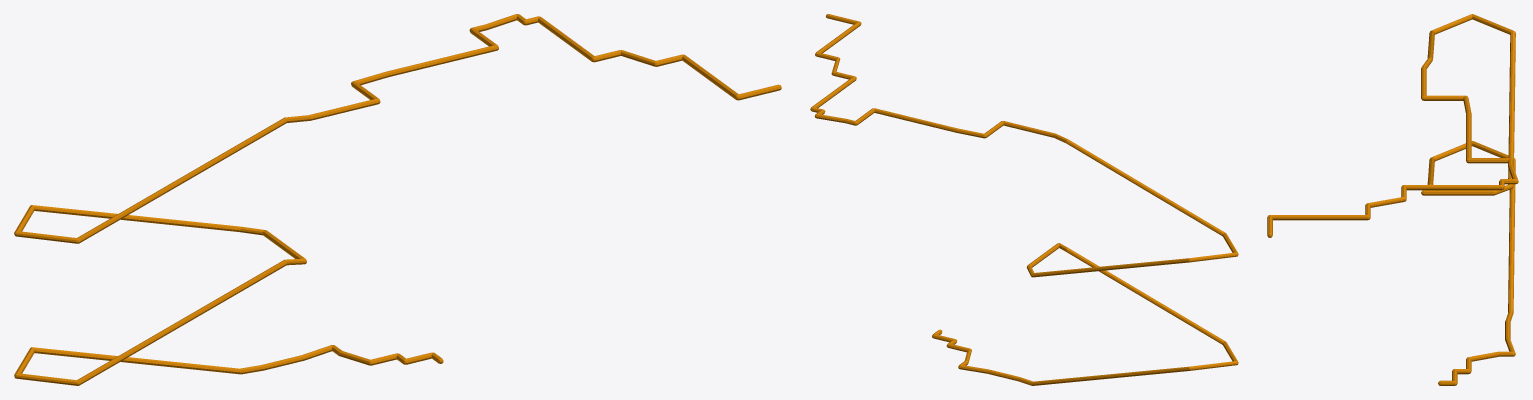
3 renders of one model, left to right at view 1: azimuth 30°, elevation 25°; view 2: azimuth 150°, elevation 25°; view 3: azimuth 270°, elevation 25°, orthographic. The views are drawn at different scales.
Size of the model in its own units: 2406 by 1020 by 899.
